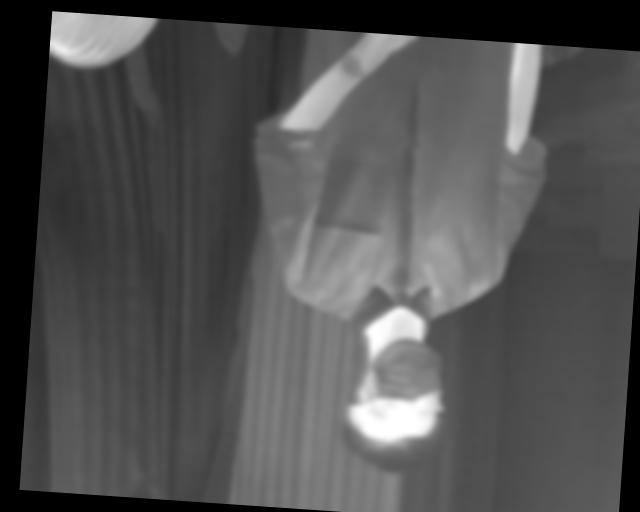face: (337, 334, 451, 478)
